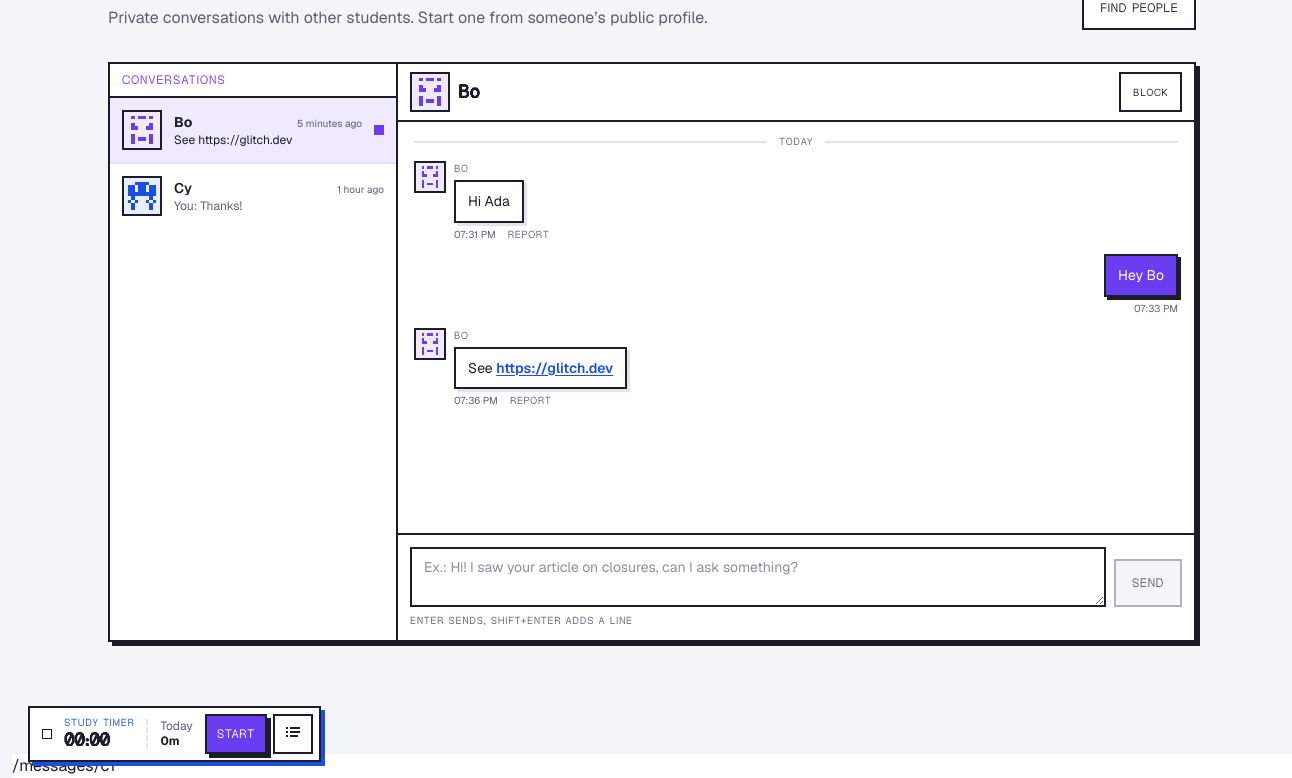
Test: keeps the text and shows the server message when sending fails
(page scrolled)
Type "Too fast" into the text box named "Message to Bo" at point(758, 577), box [410,547,1106,607]
Then press Enter
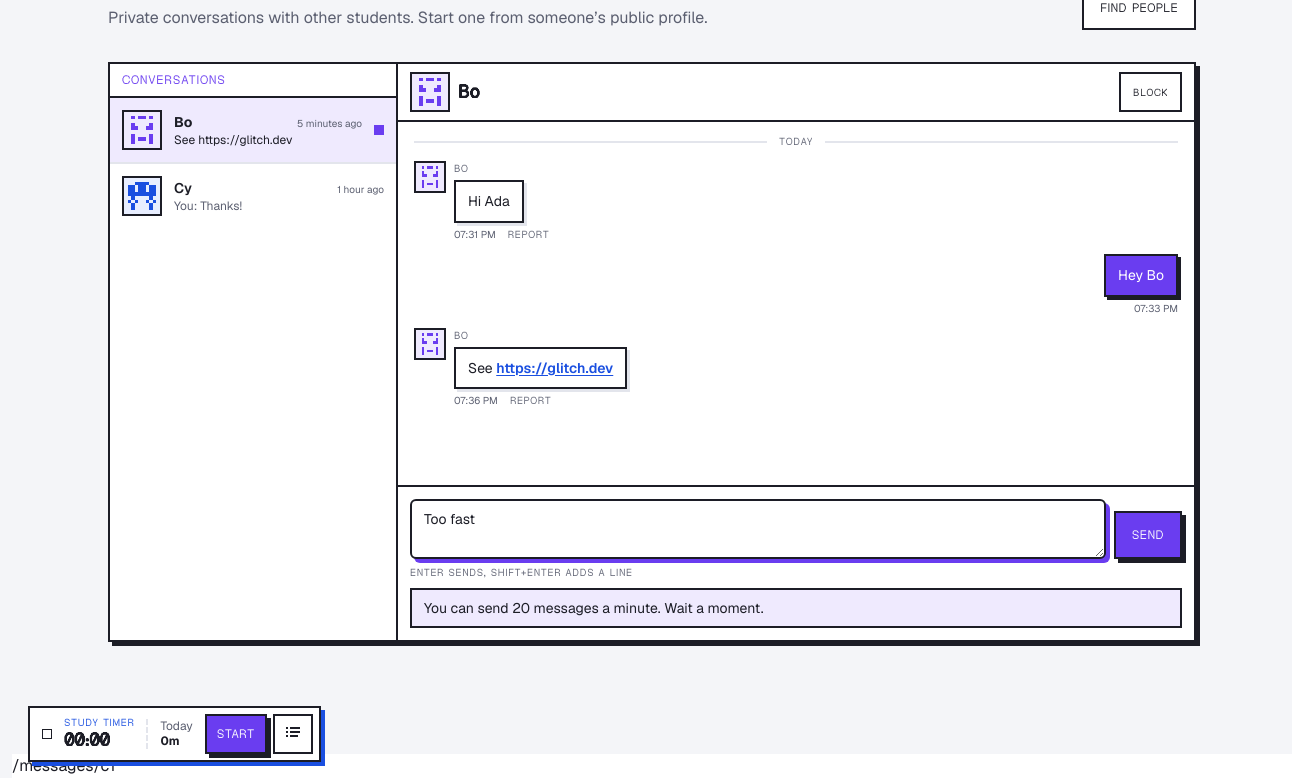
Result: the message shows "You can send 20 messages a minute." at [424,599,764,617]
